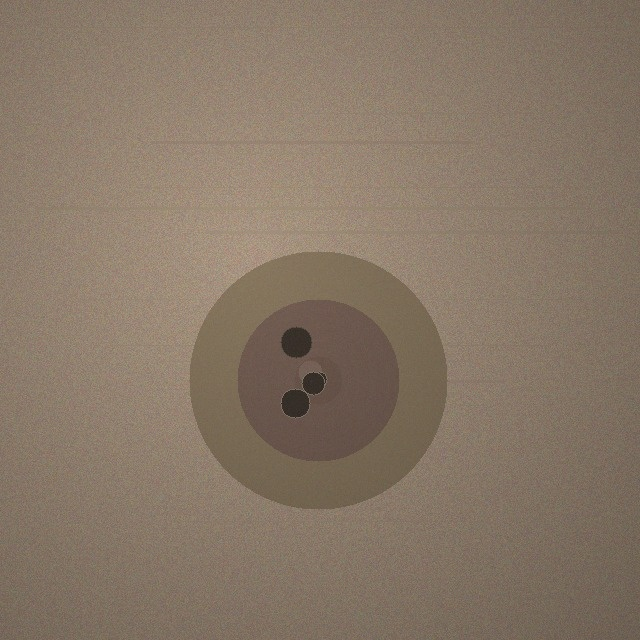shrinkage: (189, 251, 447, 509)
